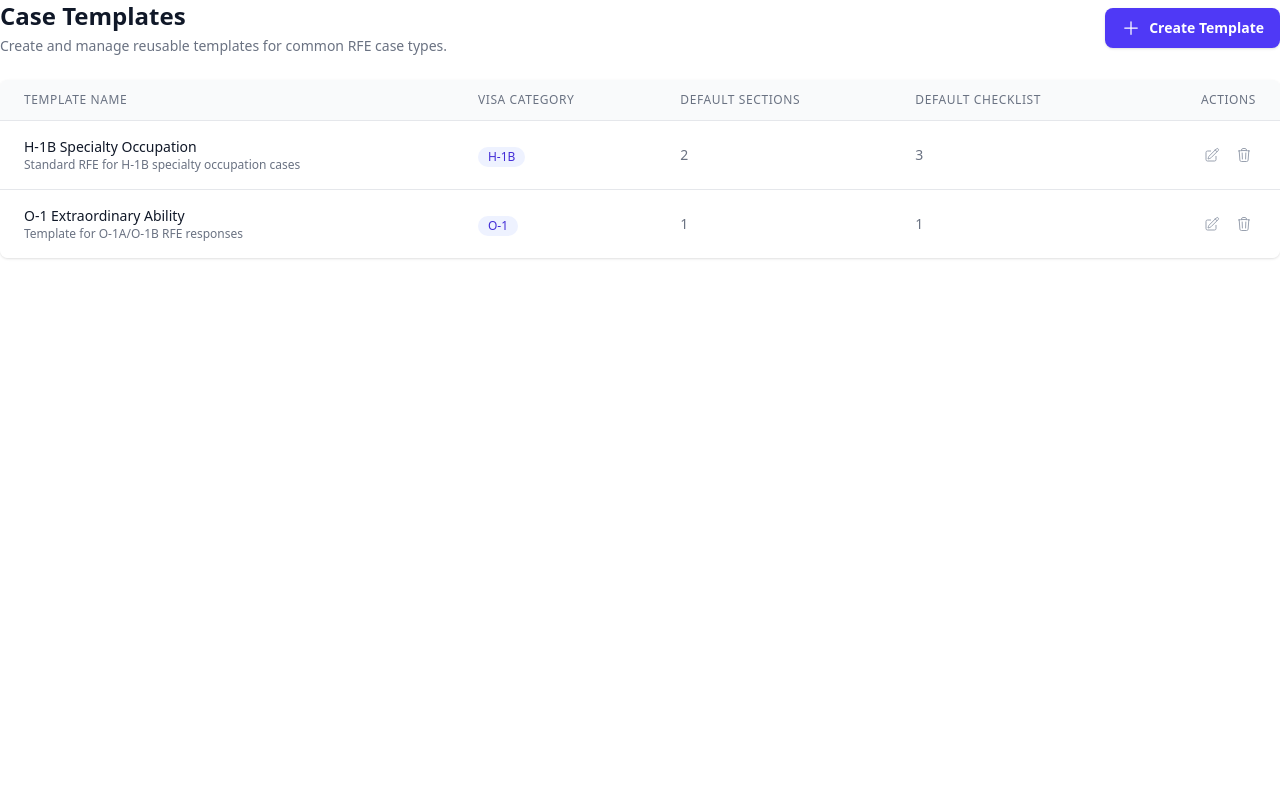
CaseTemplatesView › opens edit modal with pre-filled data
# First row's first action button is the edit button
Click the 1st button named "Edit".
click(1212, 155)  # box 1200,143 -> 1224,167
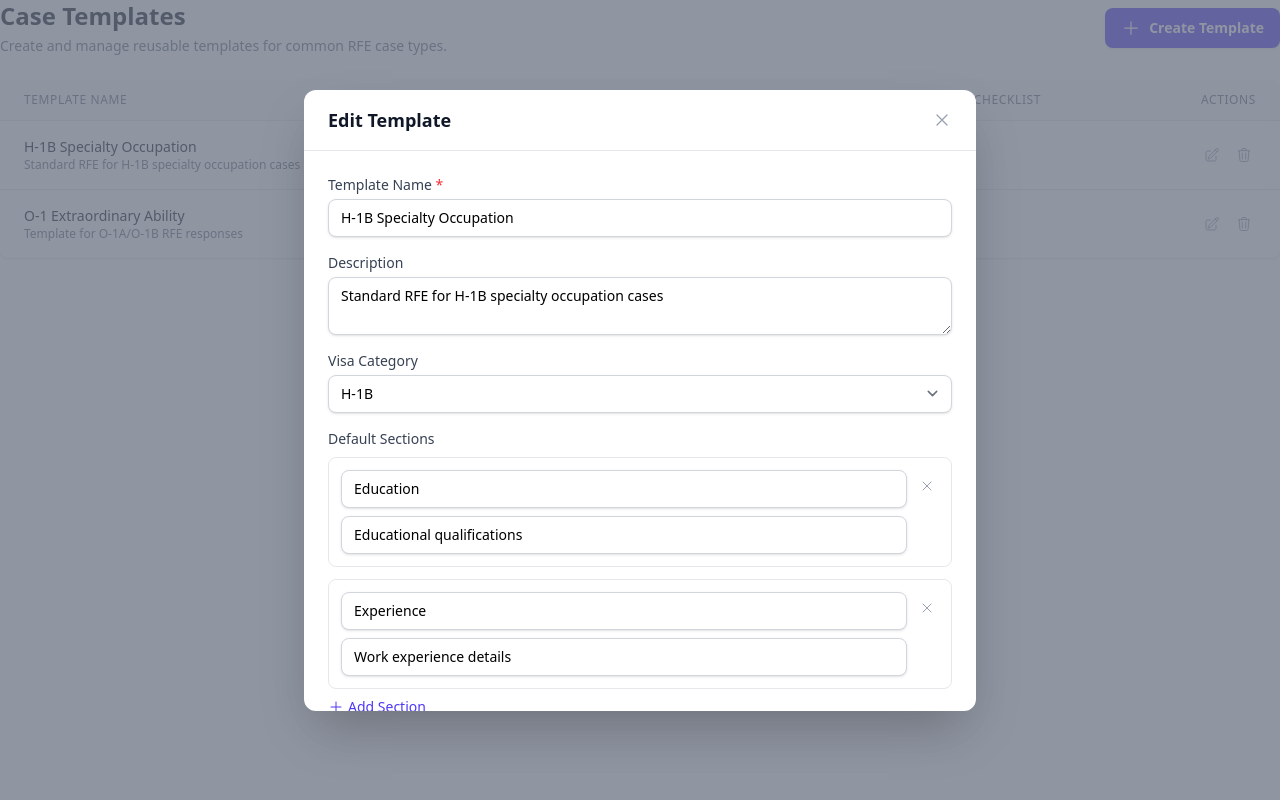
Result: the text "Edit Template" is shown at 328,106 -> 451,134
Result: the field with id "template-name" holds "H-1B Specialty Occupation" at 328,198 -> 952,236
